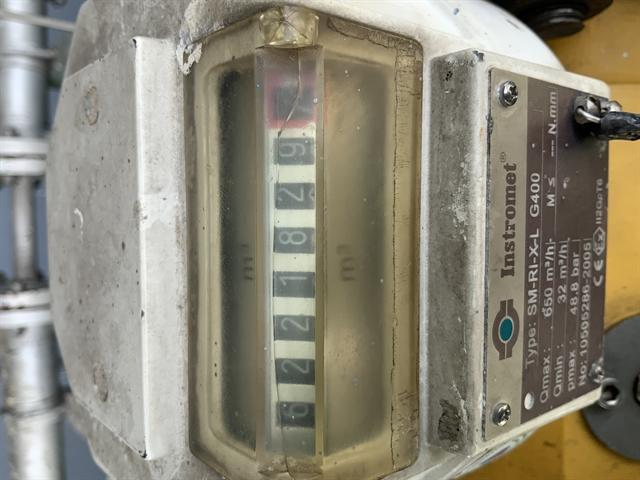analog_dial: (264, 55, 317, 457)
